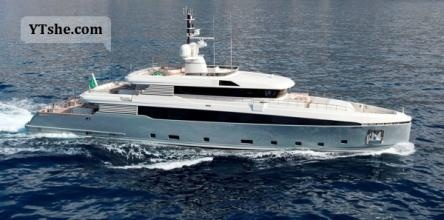yacht: (21, 44, 423, 147)
